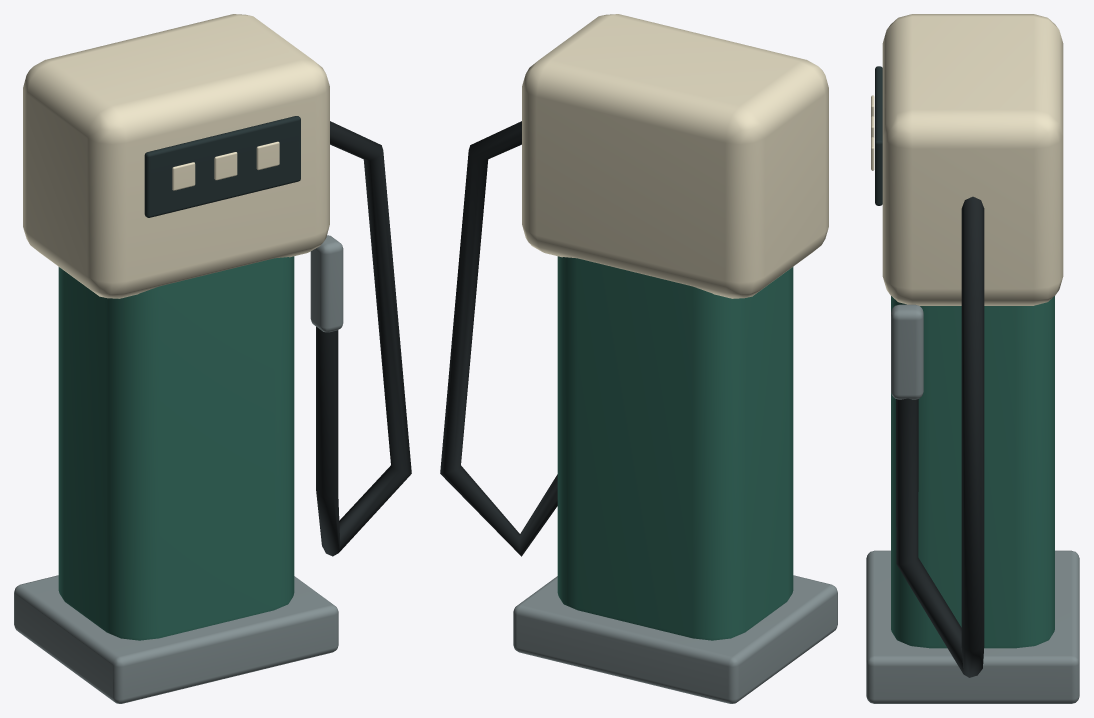
File: fuel-pump.glb
3 views of the same model, side by side, from view 1: azimuth 30°, elevation 25°; view 2: azimuth 150°, elevation 25°; view 3: azimuth 270°, elevation 25° (orthographic).
Parts seen in each view (by area): view 1: Rounded fuel pump, Instrument housing, Pump plinth, Fuel hose, Digital display; view 2: Rounded fuel pump, Instrument housing, Pump plinth, Fuel hose; view 3: Instrument housing, Rounded fuel pump, Pump plinth, Fuel hose, Digital display.
Boxes of the visible parts, left/top/right/bottom form: Rounded fuel pump: left=58, top=256, right=294, bottom=640; Instrument housing: left=23, top=14, right=329, bottom=298; Pump plinth: left=14, top=235, right=343, bottom=703; Fuel hose: left=316, top=121, right=411, bottom=556; Digital display: left=144, top=116, right=300, bottom=217; Rounded fuel pump: left=557, top=256, right=793, bottom=640; Instrument housing: left=522, top=14, right=828, bottom=298; Pump plinth: left=513, top=575, right=837, bottom=703; Fuel hose: left=440, top=121, right=557, bottom=556; Instrument housing: left=871, top=14, right=1063, bottom=305; Rounded fuel pump: left=891, top=296, right=1054, bottom=648; Pump plinth: left=866, top=304, right=1079, bottom=703; Fuel hose: left=896, top=196, right=984, bottom=677; Digital display: left=875, top=66, right=882, bottom=205.
Size of the model in its own units: 1.26 by 1.97 by 0.65.
